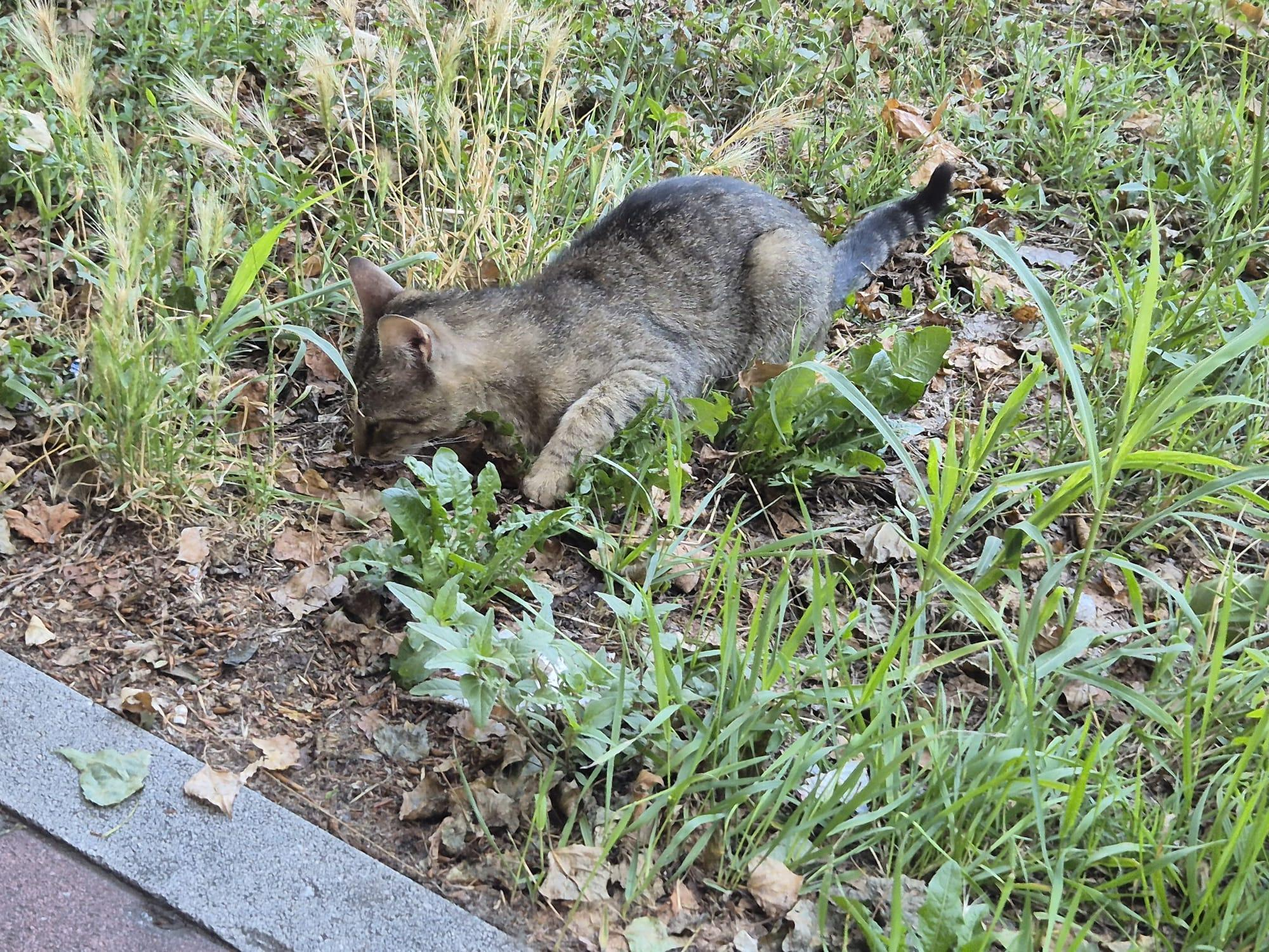macka: (340, 162, 962, 504)
